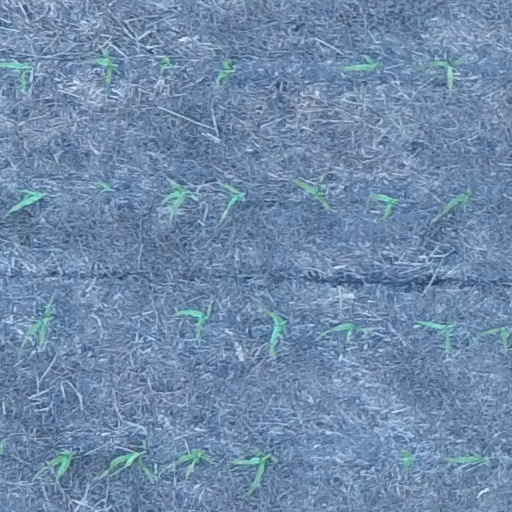planta: (232, 448, 276, 494), (108, 448, 160, 479), (415, 56, 464, 88), (296, 179, 332, 211), (176, 448, 212, 479), (161, 178, 192, 212), (28, 302, 53, 343), (90, 50, 119, 84), (419, 321, 451, 351), (219, 183, 245, 218), (10, 188, 46, 213), (369, 192, 401, 219), (442, 188, 473, 215), (176, 310, 207, 337), (268, 311, 287, 354), (50, 450, 77, 479), (216, 58, 237, 87), (342, 57, 383, 71), (480, 327, 509, 346), (446, 452, 490, 464), (398, 446, 415, 470), (333, 322, 357, 334), (161, 57, 170, 68)
